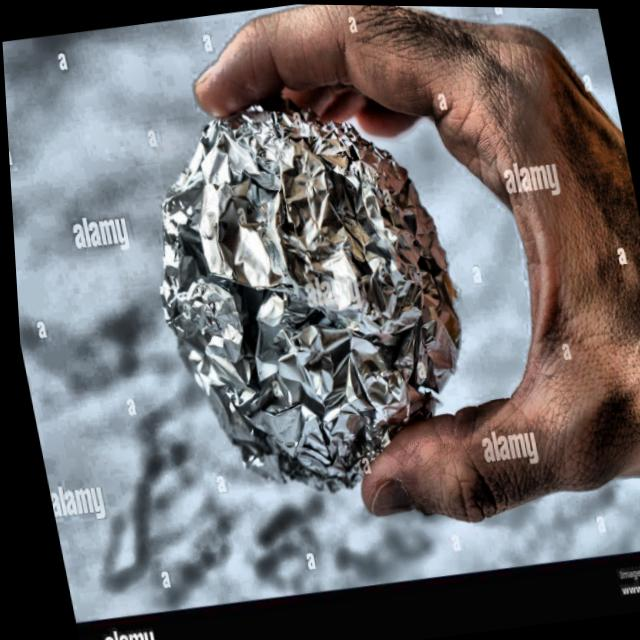Foil: (105, 62, 495, 523)
